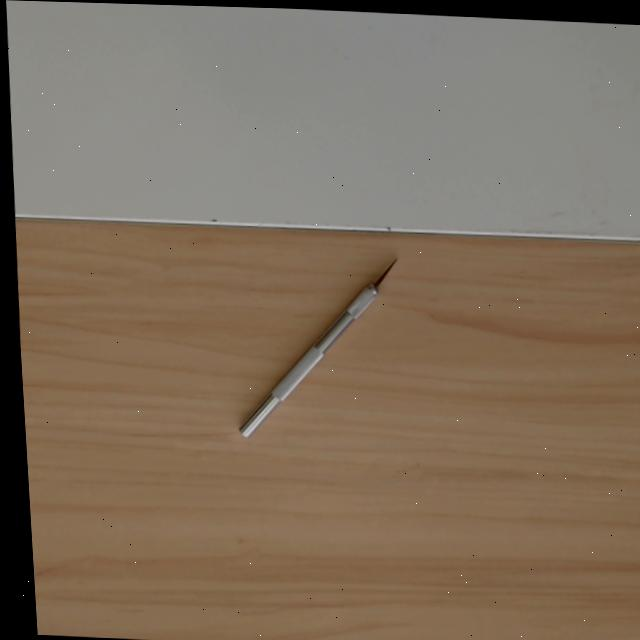Cutter-Kecil: (236, 255, 404, 440)
